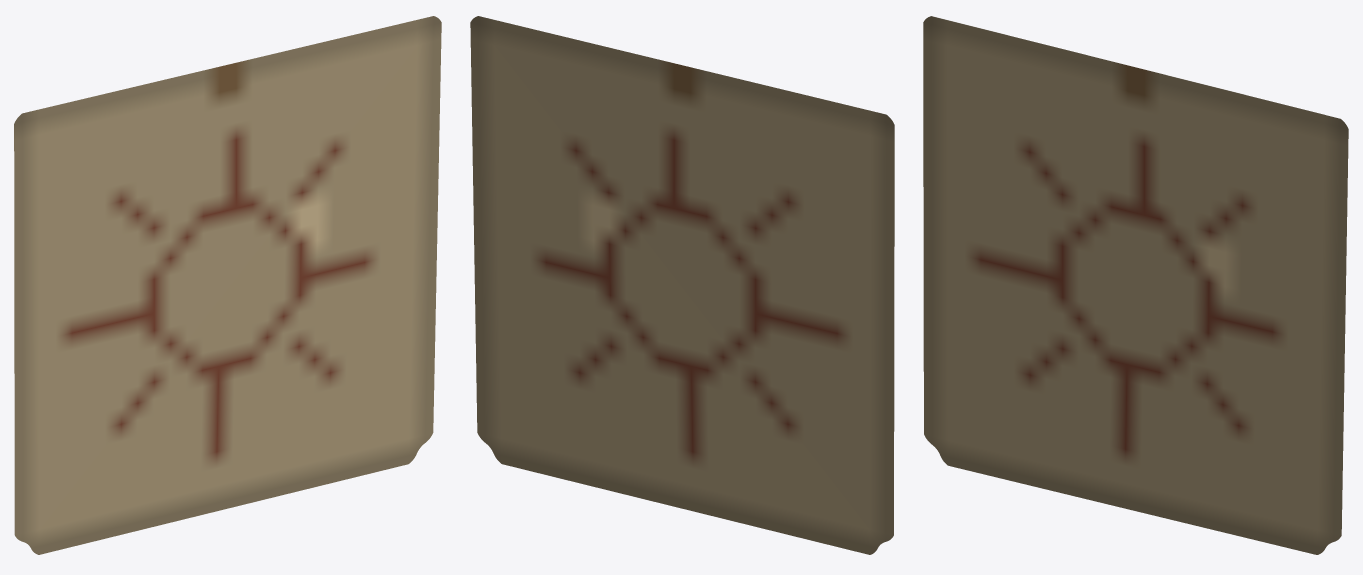
File: SM_Poster_Sun.fbx
3 renders of one model, left to right at view 1: azimuth 30°, elevation 25°; view 2: azimuth 150°, elevation 25°; view 3: azimuth 330°, elevation 25°, orthographic.
Visible parts, largest first — view 1: Poster_Sun_Visual; view 2: Poster_Sun_Visual; view 3: Poster_Sun_Visual.
Boxes of the visible parts, x1,y1,x2,y2 form: Poster_Sun_Visual: (14, 16, 441, 554); Poster_Sun_Visual: (470, 16, 894, 554); Poster_Sun_Visual: (923, 16, 1348, 554).
Size of the model in its own units: 0.1336 by 0.1334 by 0.000595.
